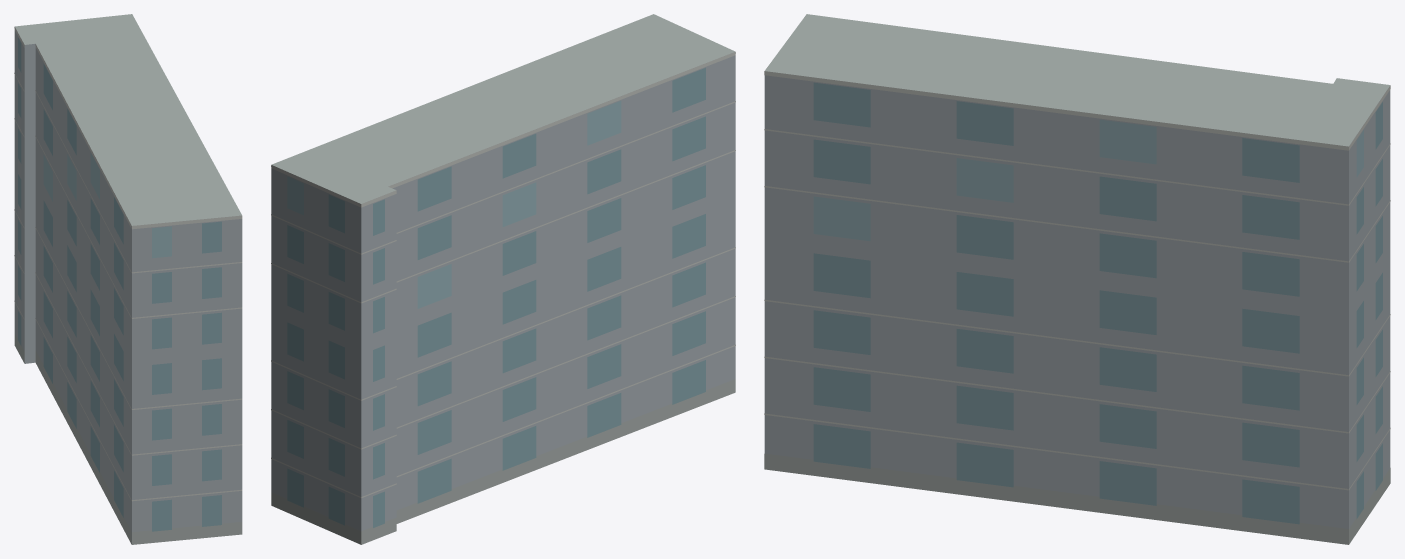
Rendered from survey-upis-32771416.glb.
The picture shows the model from 3 angles, left to right: view 1: azimuth 30°, elevation 25°; view 2: azimuth 150°, elevation 25°; view 3: azimuth 270°, elevation 25°; orthographic projection. The views are drawn at different scales.
Visible parts, largest first — view 1: survey-upis-32771416.tmp; view 2: survey-upis-32771416.tmp; view 3: survey-upis-32771416.tmp.
Boxes of the visible parts, x1,y1,x2,y2 form: survey-upis-32771416.tmp: (14, 14, 242, 544); survey-upis-32771416.tmp: (271, 14, 735, 544); survey-upis-32771416.tmp: (764, 14, 1390, 544).
Bounding box in the file's own units: 16.65 × 23.3 × 33.21.
